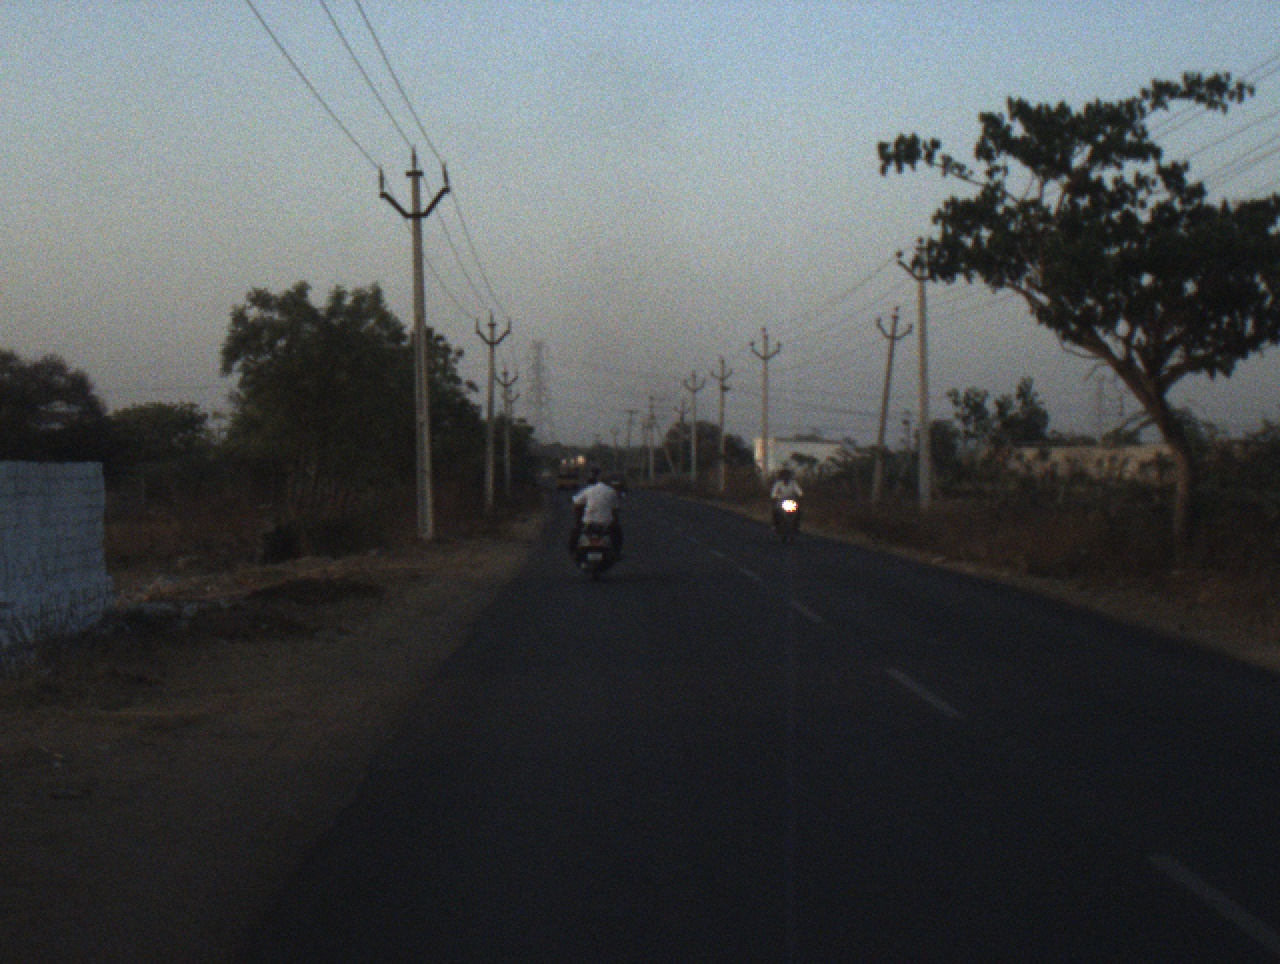autorickshaw: (550, 460, 581, 498)
car: (601, 469, 627, 498)
motorcycle: (571, 520, 622, 580), (763, 498, 804, 544)
rider: (564, 472, 626, 563), (765, 466, 805, 534), (578, 463, 600, 489)
